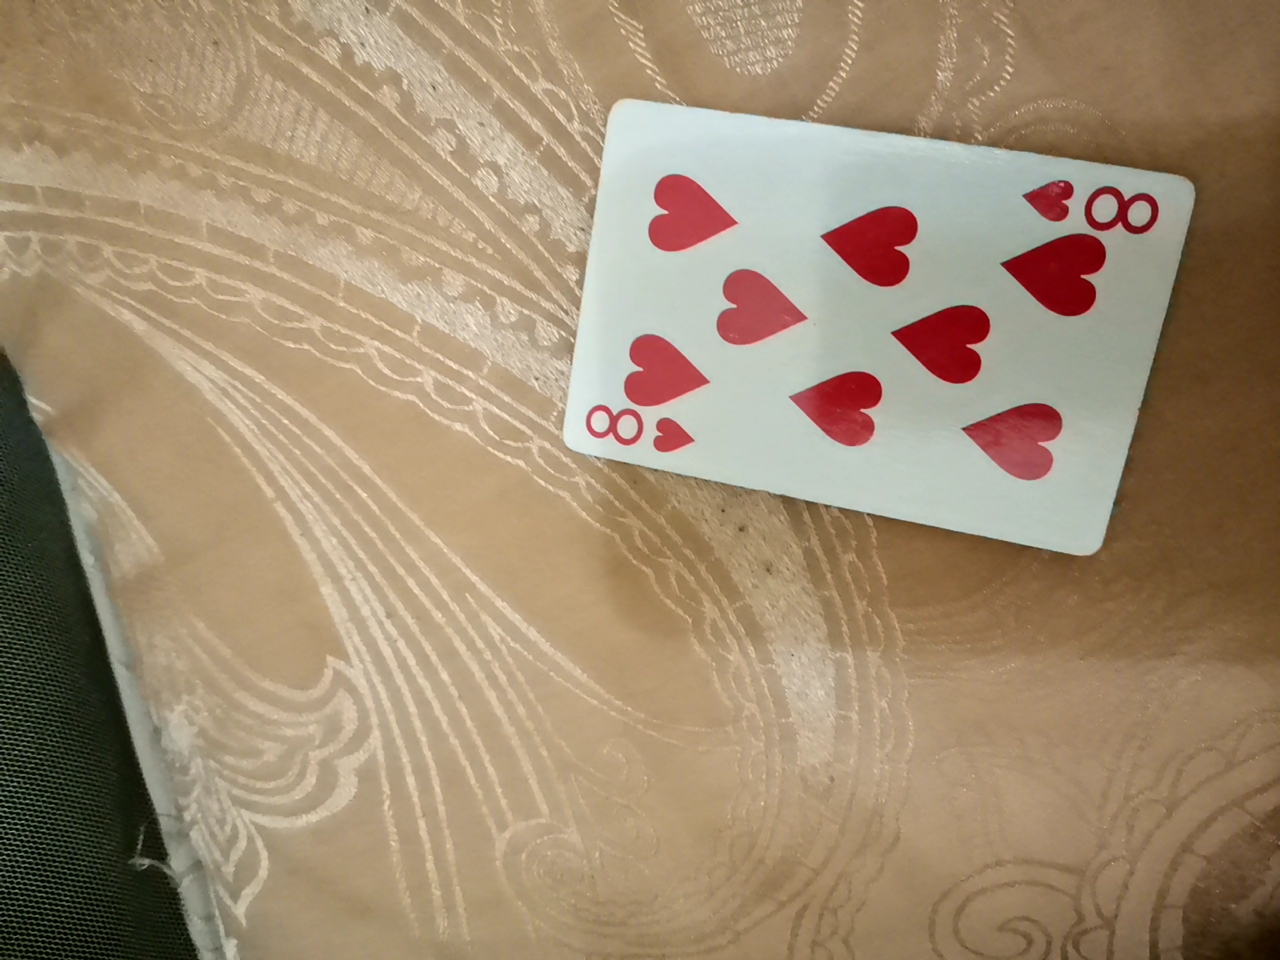hx 8: (541, 87, 1195, 577)
